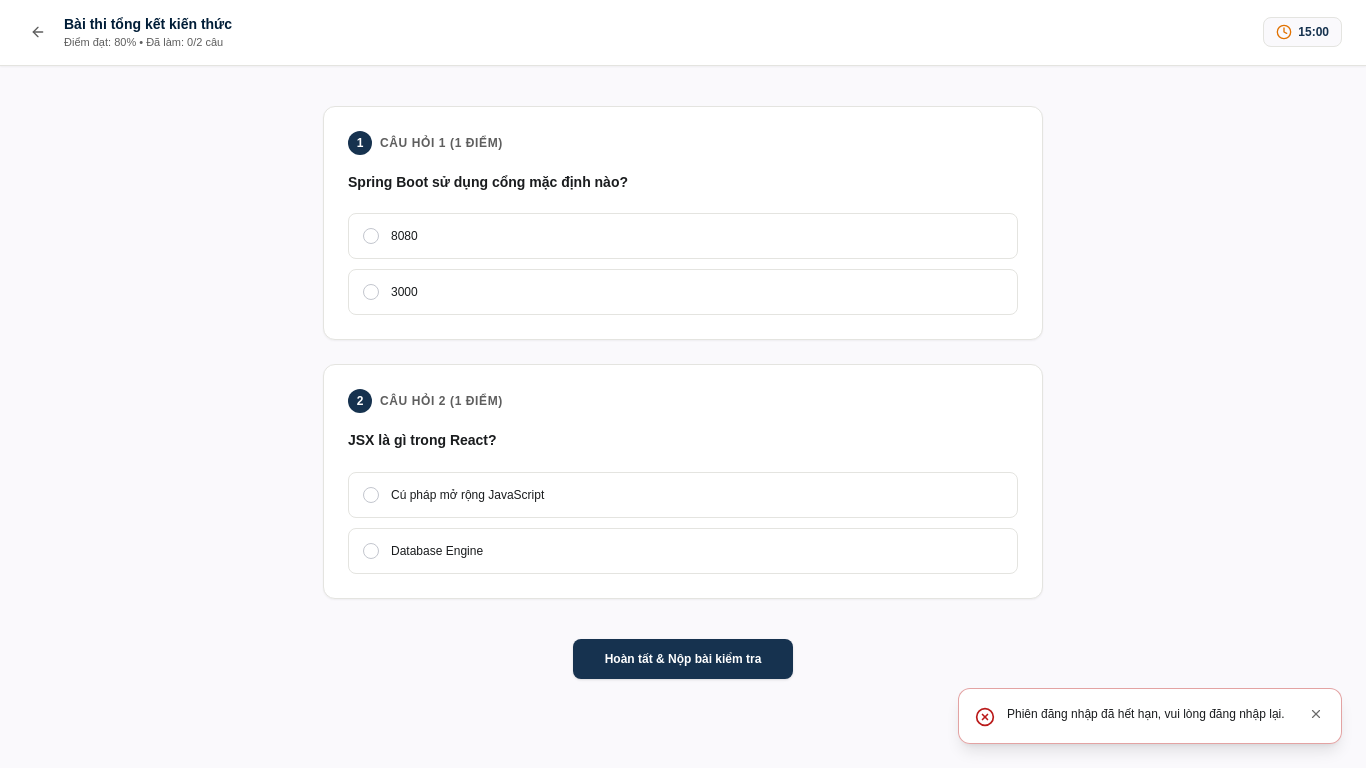
QuizTakingPage Component with MSW › học viên nộp bài khi chưa chọn câu trả lời nào: hiển thị thẻ xác nhận trên màn hình, nộp bài thành công với điểm 0
This screenshot has width=1366, height=768.
Expected: the text "8080" is shown, [391, 228, 418, 244]
# Bấm Nộp bài thi ngay khi chưa chọn câu trả lời nào
Click the button "Hoàn tất & Nộp bài kiểm tra".
click(683, 659)  # box [573, 639, 793, 679]
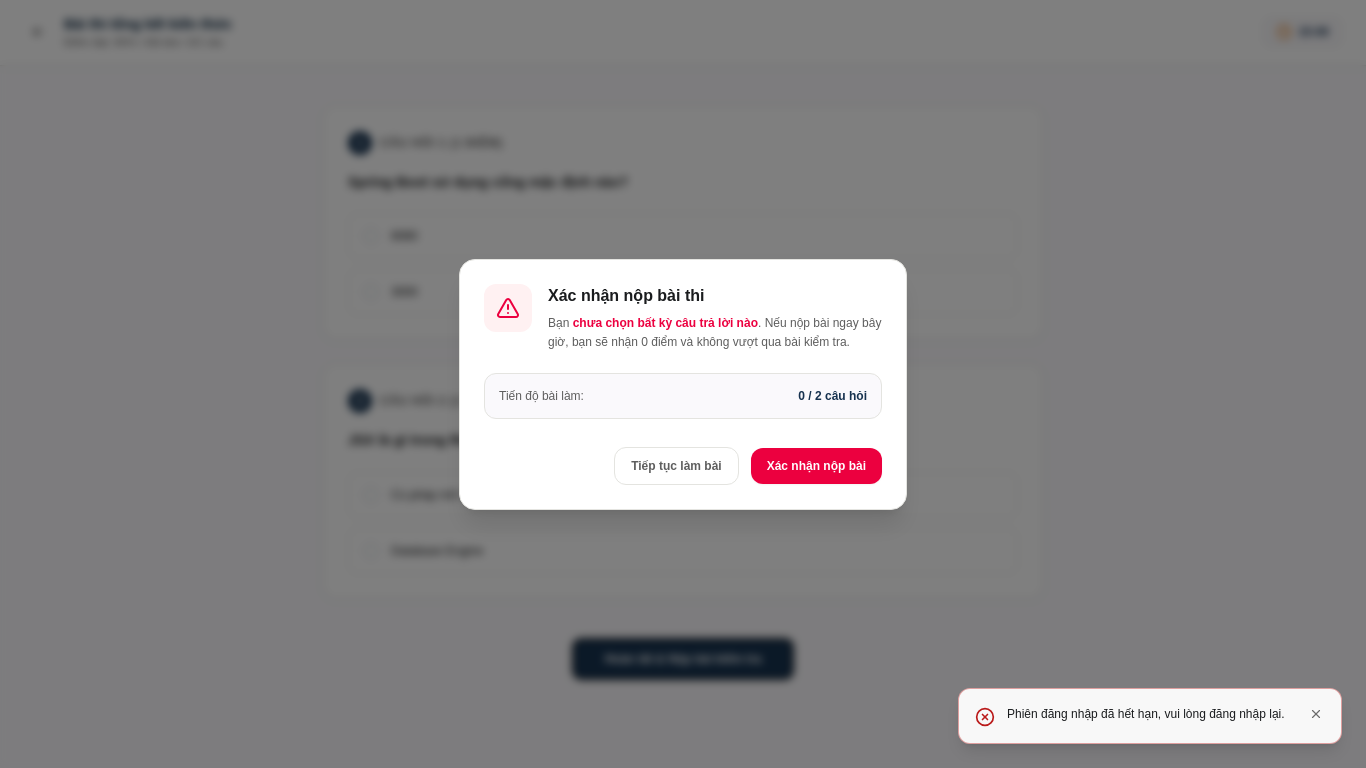
Now the heading "Xác nhận nộp bài thi" is shown, box [548, 286, 704, 304]
Now the text "chưa chọn bất kỳ câu trả lời nào" is shown, box [573, 316, 758, 330]
# Bấm nút "Xác nhận nộp bài" trong modal
Click the button "Xác nhận nộp bài".
click(816, 466)  # box [751, 448, 882, 484]
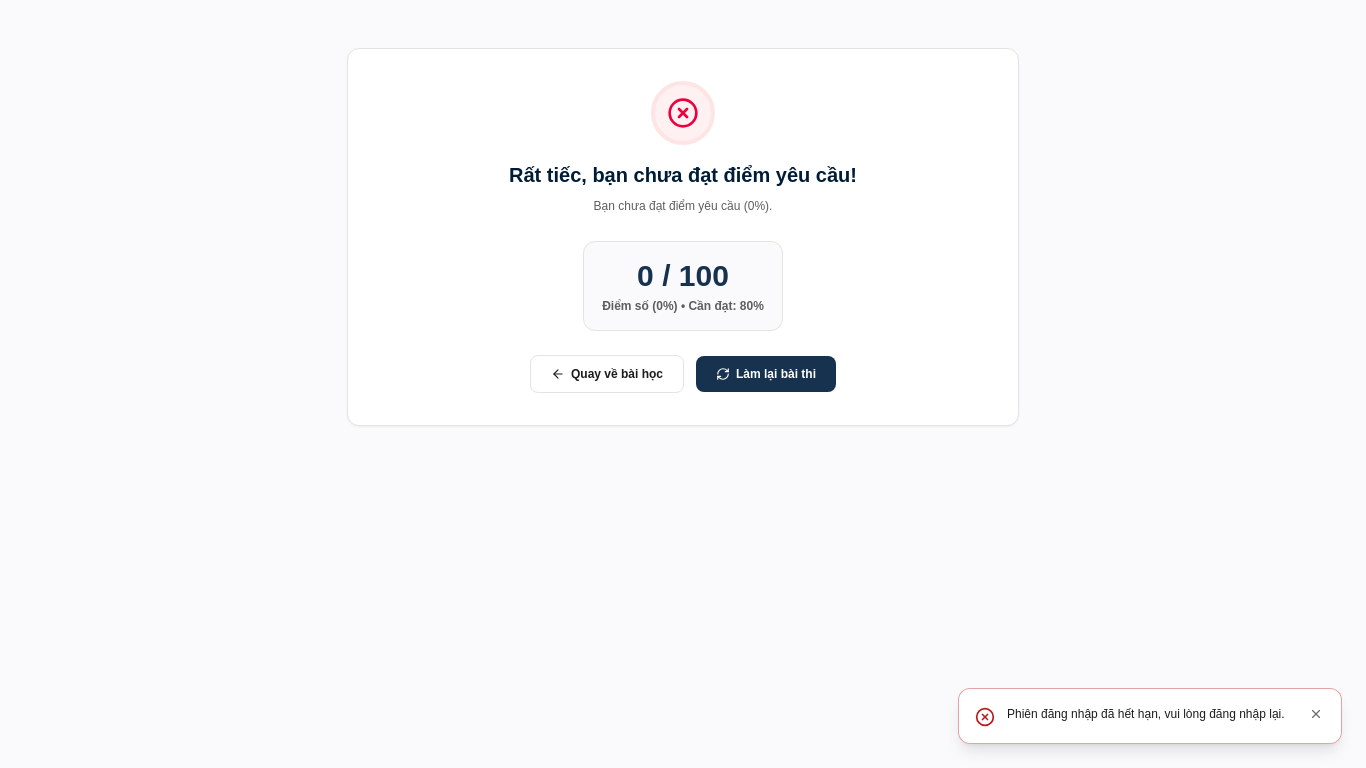
Now the heading "Rất tiếc, bạn chưa đạt điểm yêu cầu!" is shown, box [509, 164, 857, 186]
Now the text "0 / 100" is shown, box [637, 258, 729, 292]
